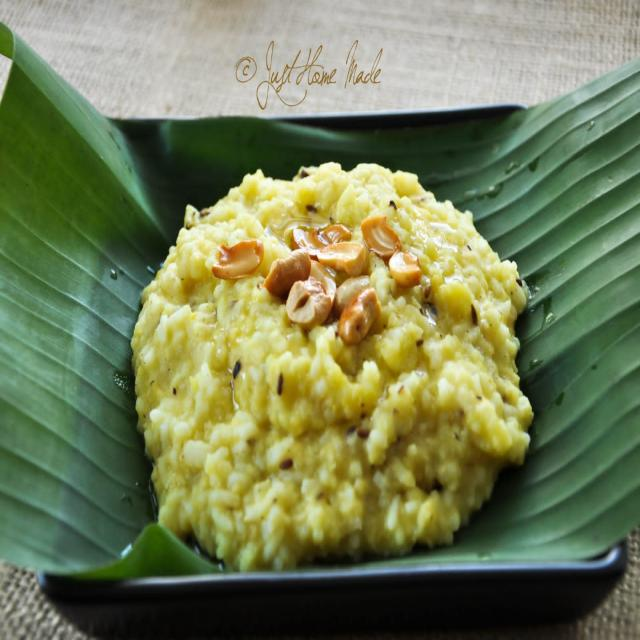khara pongal: (117, 147, 544, 588)
